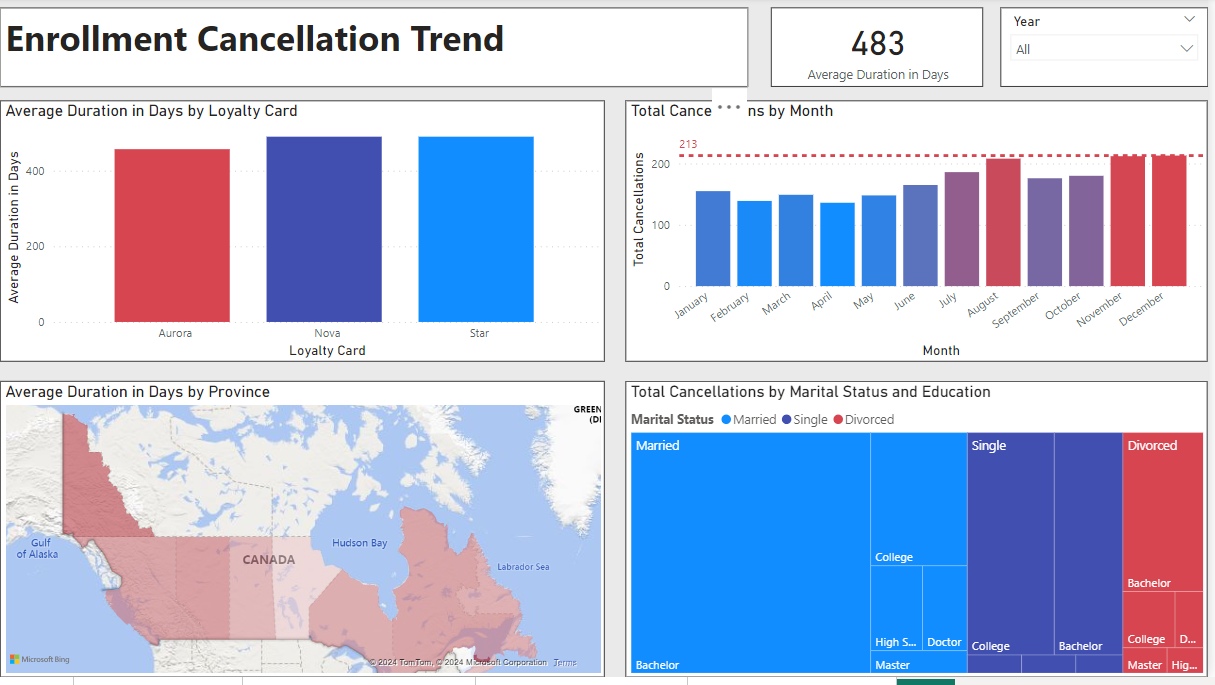

What the dashboard file says about the page in this screenshot:
{"tool":"powerbi","page":{"name":"Cancellation Trend","canvas":[1280,720],"ordinal":3},"visuals":[{"type":"card","fields":{"Values":["Enrollment Cancellation.Average Duration in Days"]},"box":[817.1,11.3,224.9,84.1],"z":0},{"type":"filledMap","fields":{"Category":["Enrollment Cancellation.Province"]},"box":[0,406.1,640.7,313.9],"z":1000},{"type":"clusteredColumnChart","fields":{"Y":["Enrollment Cancellation.Total Cancellations"],"Category":["Enrollment Cancellation.Cancellation Date.Variation.Date Hierarchy.Month"]},"box":[663.4,110,616.4,276.7],"z":2000},{"type":"slicer","fields":{"Values":["Enrollment Cancellation.Cancellation Date.Variation.Date Hierarchy.Year"]},"box":[1059.8,11.3,220,84.1],"z":3000},{"type":"treemap","fields":{"Group":["Enrollment Cancellation.Marital Status"],"Values":["Enrollment Cancellation.Total Cancellations"],"Details":["Enrollment Cancellation.Education"]},"box":[663.4,406.1,616.4,313.9],"z":4000},{"type":"columnChart","fields":{"Category":["Enrollment Cancellation.Loyalty Card"],"Y":["Enrollment Cancellation.Average Duration in Days"]},"box":[0,110,640.7,276.7],"z":5000},{"type":"textbox","box":[0,11.3,792.8,84.1],"z":6000}]}

Visuals, with their boxes in screenshot pixels (x1, y1, x2, y2), scaled from the page's 1280x720 canvas onto the 1215x685 screenshot:
card - Enrollment Cancellation.Average Duration in Days: bbox(776, 11, 989, 91)
filledMap - Enrollment Cancellation.Province: bbox(0, 386, 608, 684)
clusteredColumnChart - Enrollment Cancellation.Total Cancellations x Enrollment Cancellation.Cancellation Date.Variation.Date Hierarchy.Month: bbox(630, 105, 1214, 368)
slicer - Enrollment Cancellation.Cancellation Date.Variation.Date Hierarchy.Year: bbox(1006, 11, 1214, 91)
treemap - Enrollment Cancellation.Marital Status x Enrollment Cancellation.Total Cancellations: bbox(630, 386, 1214, 684)
columnChart - Enrollment Cancellation.Loyalty Card x Enrollment Cancellation.Average Duration in Days: bbox(0, 105, 608, 368)
textbox: bbox(0, 11, 753, 91)
